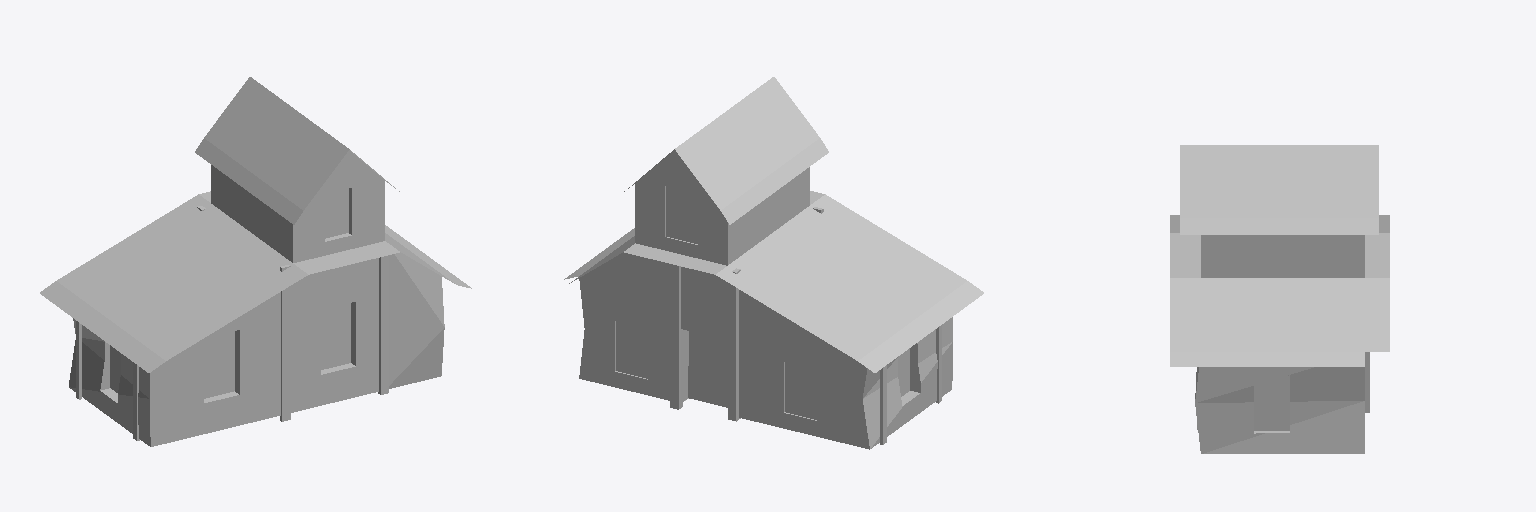
The model's file is house.obj.
3 renders of one model, left to right at view 1: azimuth 30°, elevation 25°; view 2: azimuth 150°, elevation 25°; view 3: azimuth 270°, elevation 25°, orthographic.
Parts seen in each view (by area): view 1: Cube_1_Mesh.006; view 2: Cube_1_Mesh.006; view 3: Cube_1_Mesh.006.
Part boxes in pixels (x1,y1,x2,y2): Cube_1_Mesh.006: (40, 77, 471, 446); Cube_1_Mesh.006: (564, 77, 983, 449); Cube_1_Mesh.006: (1170, 145, 1389, 453).
Bounding box in the file's own units: 0.345 × 0.2699 × 0.203.